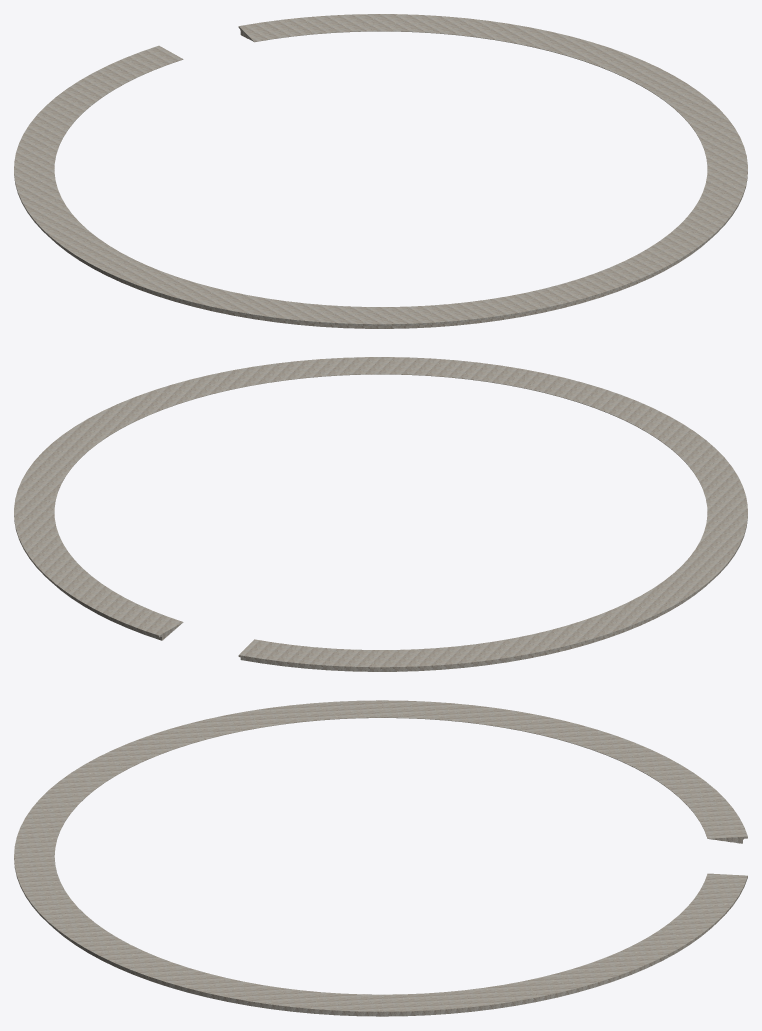
Rendered from Basement.fbx.
The picture shows the model from 3 angles, top to bottom: view 1: azimuth 30°, elevation 25°; view 2: azimuth 150°, elevation 25°; view 3: azimuth 270°, elevation 25°; orthographic projection.
Visible parts, largest first — view 1: Basement; view 2: Basement; view 3: Basement.
Part boxes in pixels (x1,y1,x2,y2): Basement: (14,14,747,328); Basement: (14,357,747,671); Basement: (14,700,747,1016).
Size of the model in its own units: 12766 by 131 by 12716.
